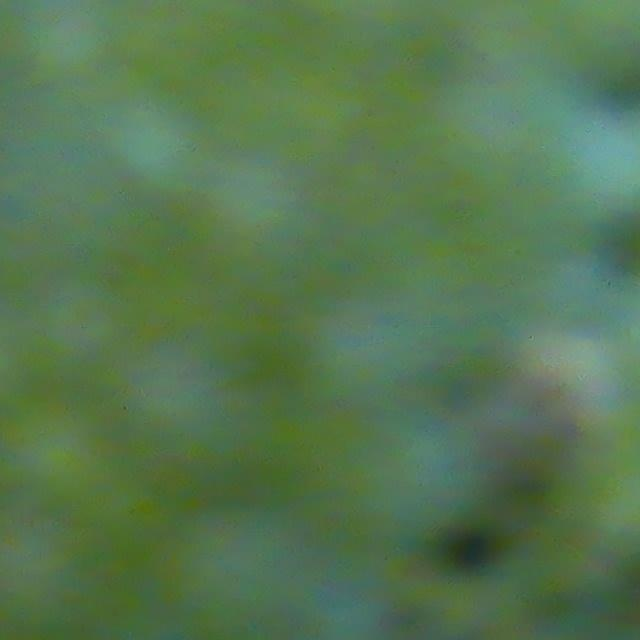SeaGrape: (120, 304, 258, 472), (326, 410, 473, 547), (0, 387, 122, 517), (294, 299, 405, 420), (200, 173, 316, 284), (84, 94, 200, 189), (163, 531, 263, 636)
